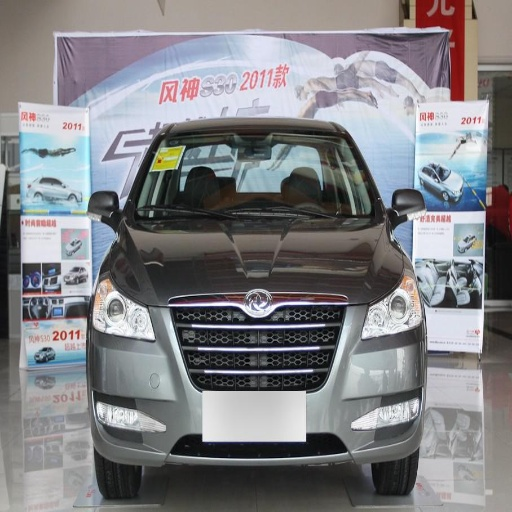front_bumper: (90, 287, 421, 467)
front_right_light: (91, 273, 154, 341)
hood: (118, 209, 403, 306)
